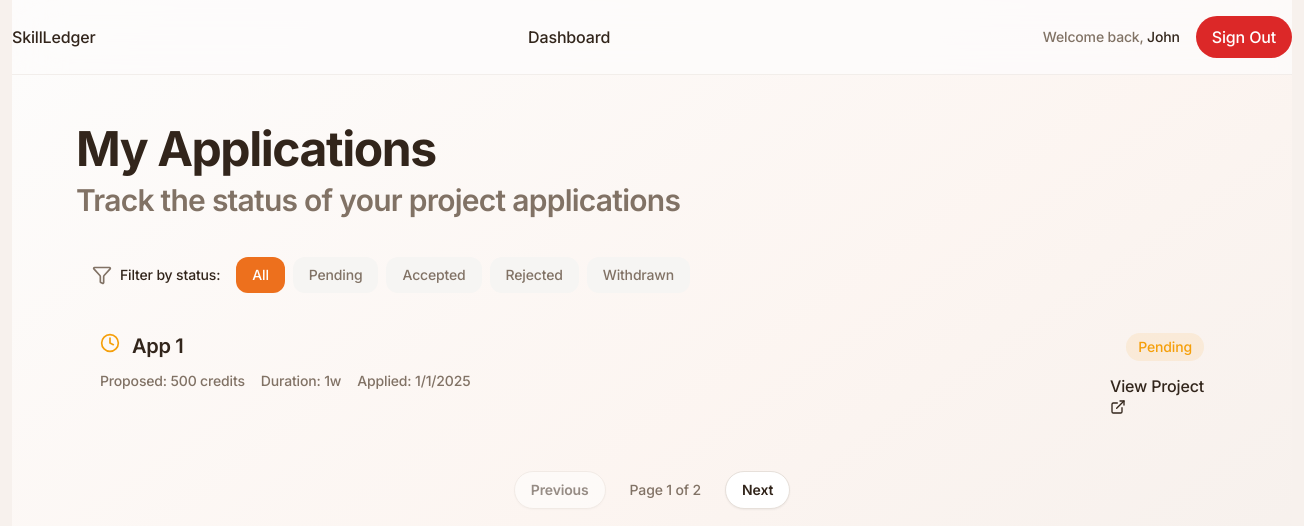
Test: MyApplicationsPage - Pagination › should disable Next button on last page
Check: the heading "App 1" is shown, box x1=132 y1=332 x2=184 y2=358
Click the button "Next". click: {"x": 758, "y": 490}
box: x1=725 y1=470 x2=790 y2=508
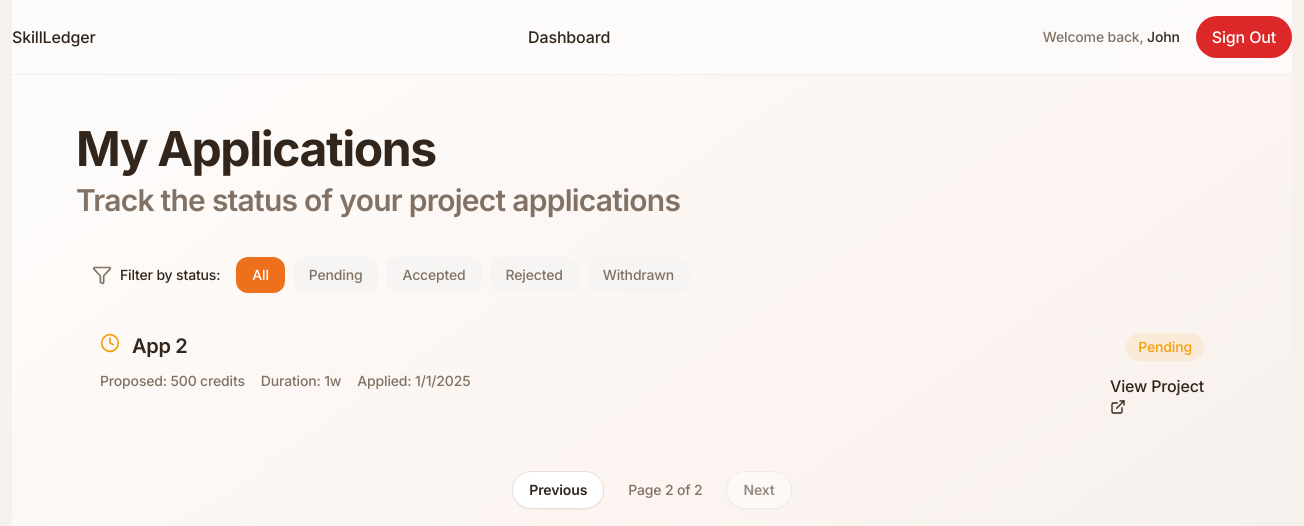
Check: the heading "App 2" is shown, box x1=132 y1=332 x2=188 y2=358
Check: the button "Next" is disabled, box x1=726 y1=470 x2=792 y2=508
